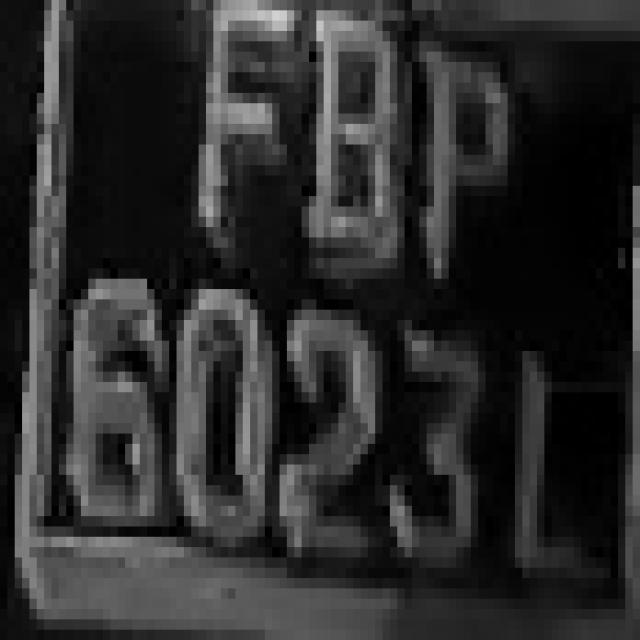0: (169, 258, 280, 547)
2: (258, 279, 398, 588)
3: (375, 279, 464, 578)
6: (74, 227, 176, 588)
B: (294, 10, 412, 289)
F: (169, 0, 294, 268)
L: (508, 268, 610, 578)
P: (412, 31, 530, 279)
